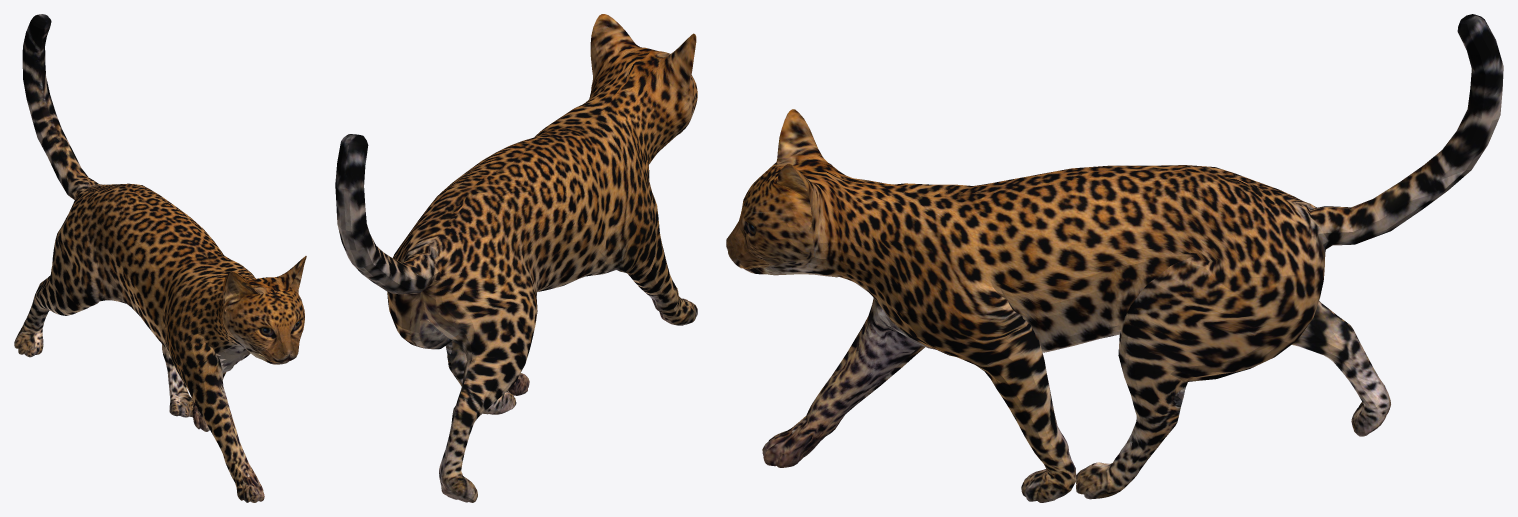
The model's file is cat.obj.
The picture shows the model from 3 angles, left to right: view 1: azimuth 30°, elevation 25°; view 2: azimuth 150°, elevation 25°; view 3: azimuth 270°, elevation 25°; orthographic projection. The views are drawn at different scales.
Visible parts, largest first — view 1: object2, object0, object9, object8, object11, object4, object3, object12; view 2: object2, object0, object1, object11, object12; view 3: object0, object2, object4, object8, object12.
Part boxes in pixels (box(x1,y1,x2,y2)): object2: box(14, 14, 272, 502); object0: box(40, 14, 306, 417); object9: box(223, 272, 289, 363); object8: box(273, 257, 305, 360); object11: box(162, 344, 187, 417); object4: box(219, 362, 264, 502); object3: box(220, 347, 242, 373); object12: box(26, 310, 70, 357); object2: box(344, 33, 697, 502); object0: box(335, 14, 654, 414); object1: box(409, 290, 458, 341); object11: box(412, 336, 516, 414); object12: box(439, 327, 472, 490); object0: box(765, 17, 1503, 502); object2: box(765, 14, 1496, 456); object4: box(762, 309, 920, 467); object8: box(726, 164, 812, 269); object12: box(1292, 302, 1389, 436).
Size of the model in its own units: 115 by 330 by 500.
1 material, 1 textured.
